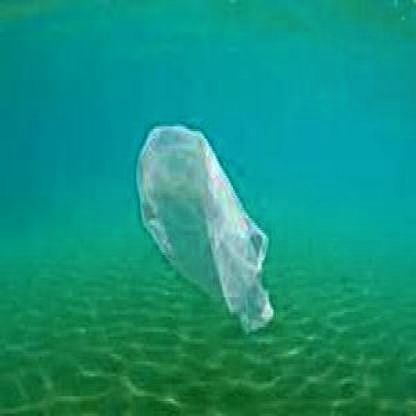pbag: (136, 124, 274, 334)
